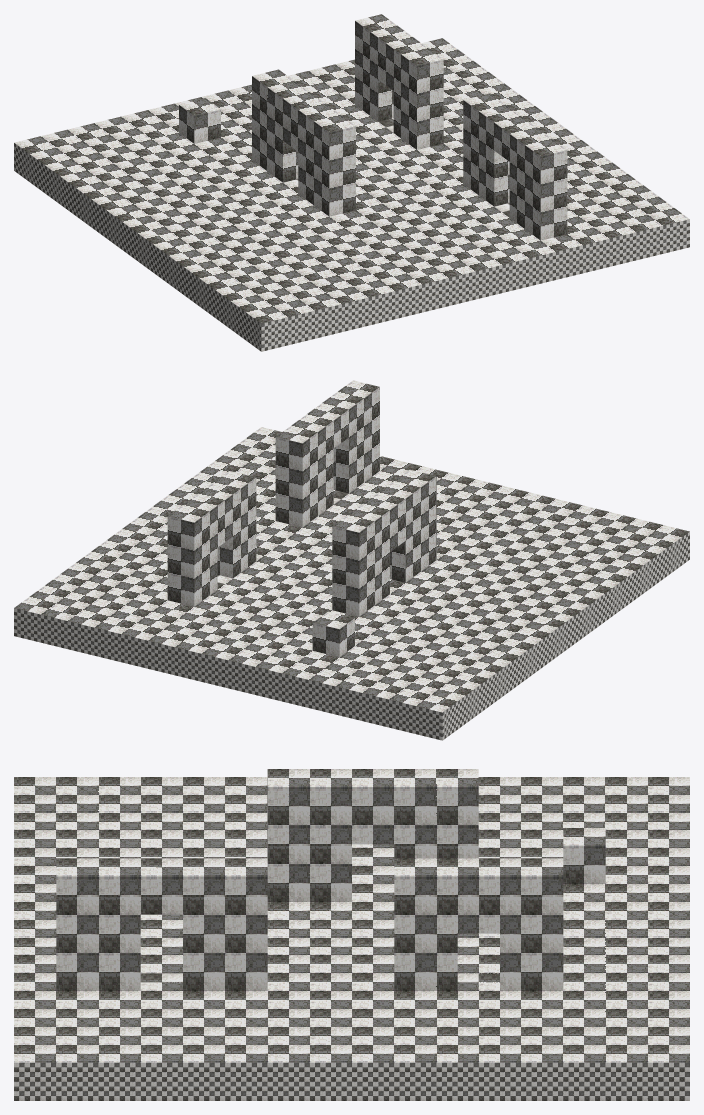
The model's file is testmap.obj.
The picture shows the model from 3 angles, top to bottom: view 1: azimuth 30°, elevation 25°; view 2: azimuth 150°, elevation 25°; view 3: azimuth 270°, elevation 25°; orthographic projection. The views are drawn at different scales.
Visible parts, largest first — view 1: mesh_4_Collection_materials/insidecheckerboardflooring.vmat#SFX_; view 2: mesh_4_Collection_materials/insidecheckerboardflooring.vmat#SFX_; view 3: mesh_4_Collection_materials/insidecheckerboardflooring.vmat#SFX_.
Part boxes in pixels (left/top/right/bottom): mesh_4_Collection_materials/insidecheckerboardflooring.vmat#SFX_: left=14, top=14, right=689, bottom=351; mesh_4_Collection_materials/insidecheckerboardflooring.vmat#SFX_: left=14, top=380, right=689, bottom=740; mesh_4_Collection_materials/insidecheckerboardflooring.vmat#SFX_: left=14, top=769, right=689, bottom=1100.
Size of the model in its own units: 819 by 205 by 819.
1 material, 1 textured.
